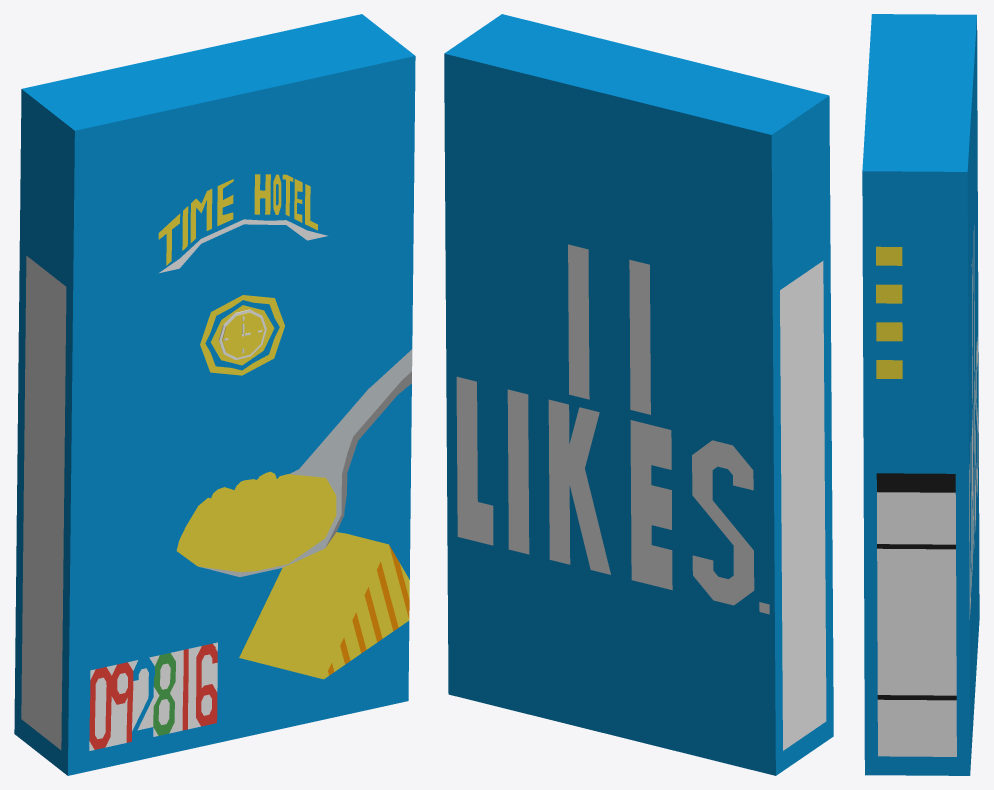
File: Cereal Box 2.obj
The picture shows the model from 3 angles, left to right: view 1: azimuth 30°, elevation 25°; view 2: azimuth 150°, elevation 25°; view 3: azimuth 270°, elevation 25°; orthographic projection. The views are drawn at different scales.
Parts seen in each view (by area): view 1: group1724677855, group231972708; view 2: group1724677855; view 3: group1724677855.
Part boxes in pixels (x1,y1,x2,y2): group1724677855: (14,14,415,775); group231972708: (218,309,266,359); group1724677855: (444,14,833,775); group1724677855: (862,14,979,775).
Bounding box in the file's own units: 1.49 × 2.68 × 0.4675.
